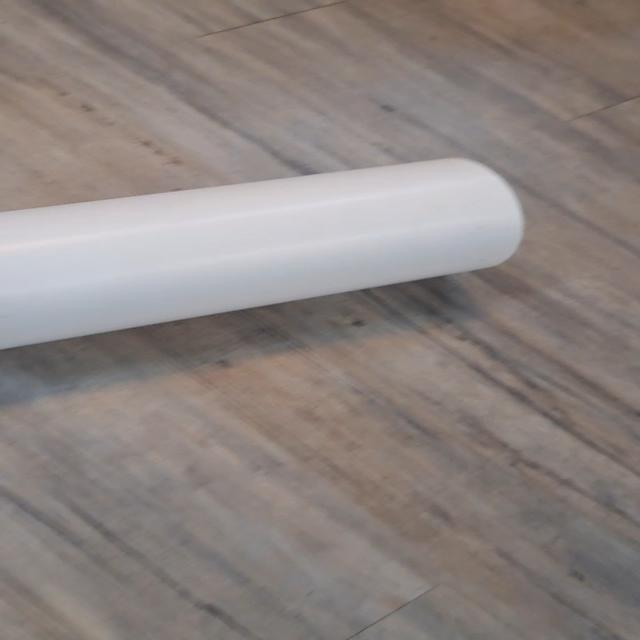CORAL: (0, 125, 601, 372)
